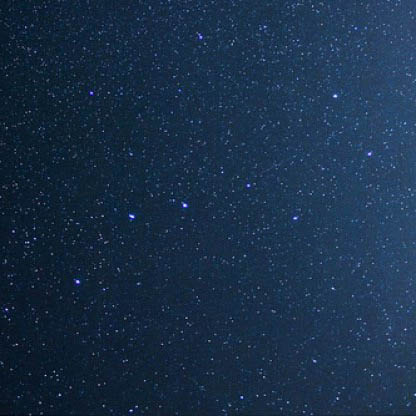Ursa Major: (320, 84, 348, 109), (165, 193, 194, 217), (116, 203, 142, 228), (356, 140, 383, 164), (284, 203, 305, 232), (66, 269, 89, 294), (238, 171, 260, 196)
